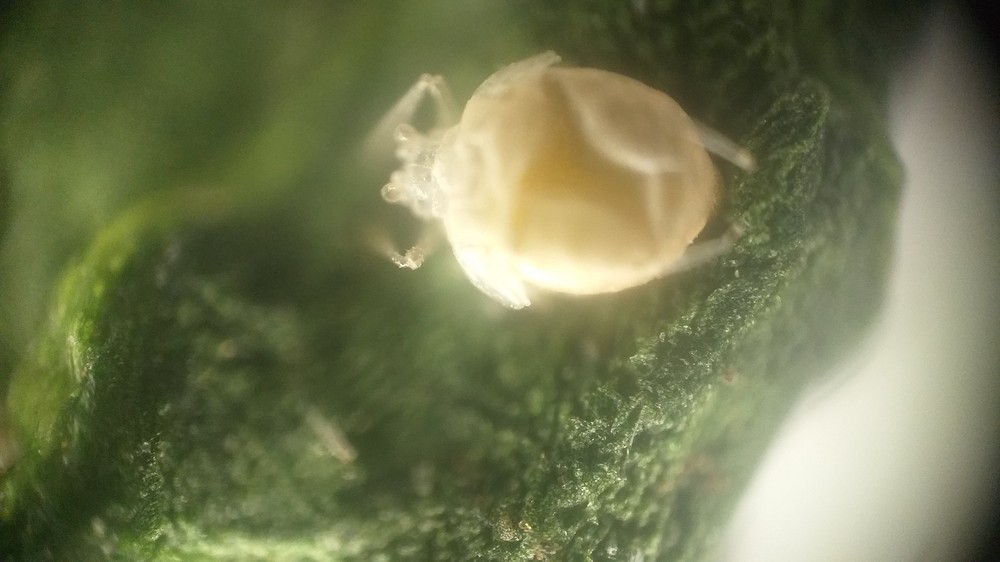Pulgon: (330, 36, 794, 332)
